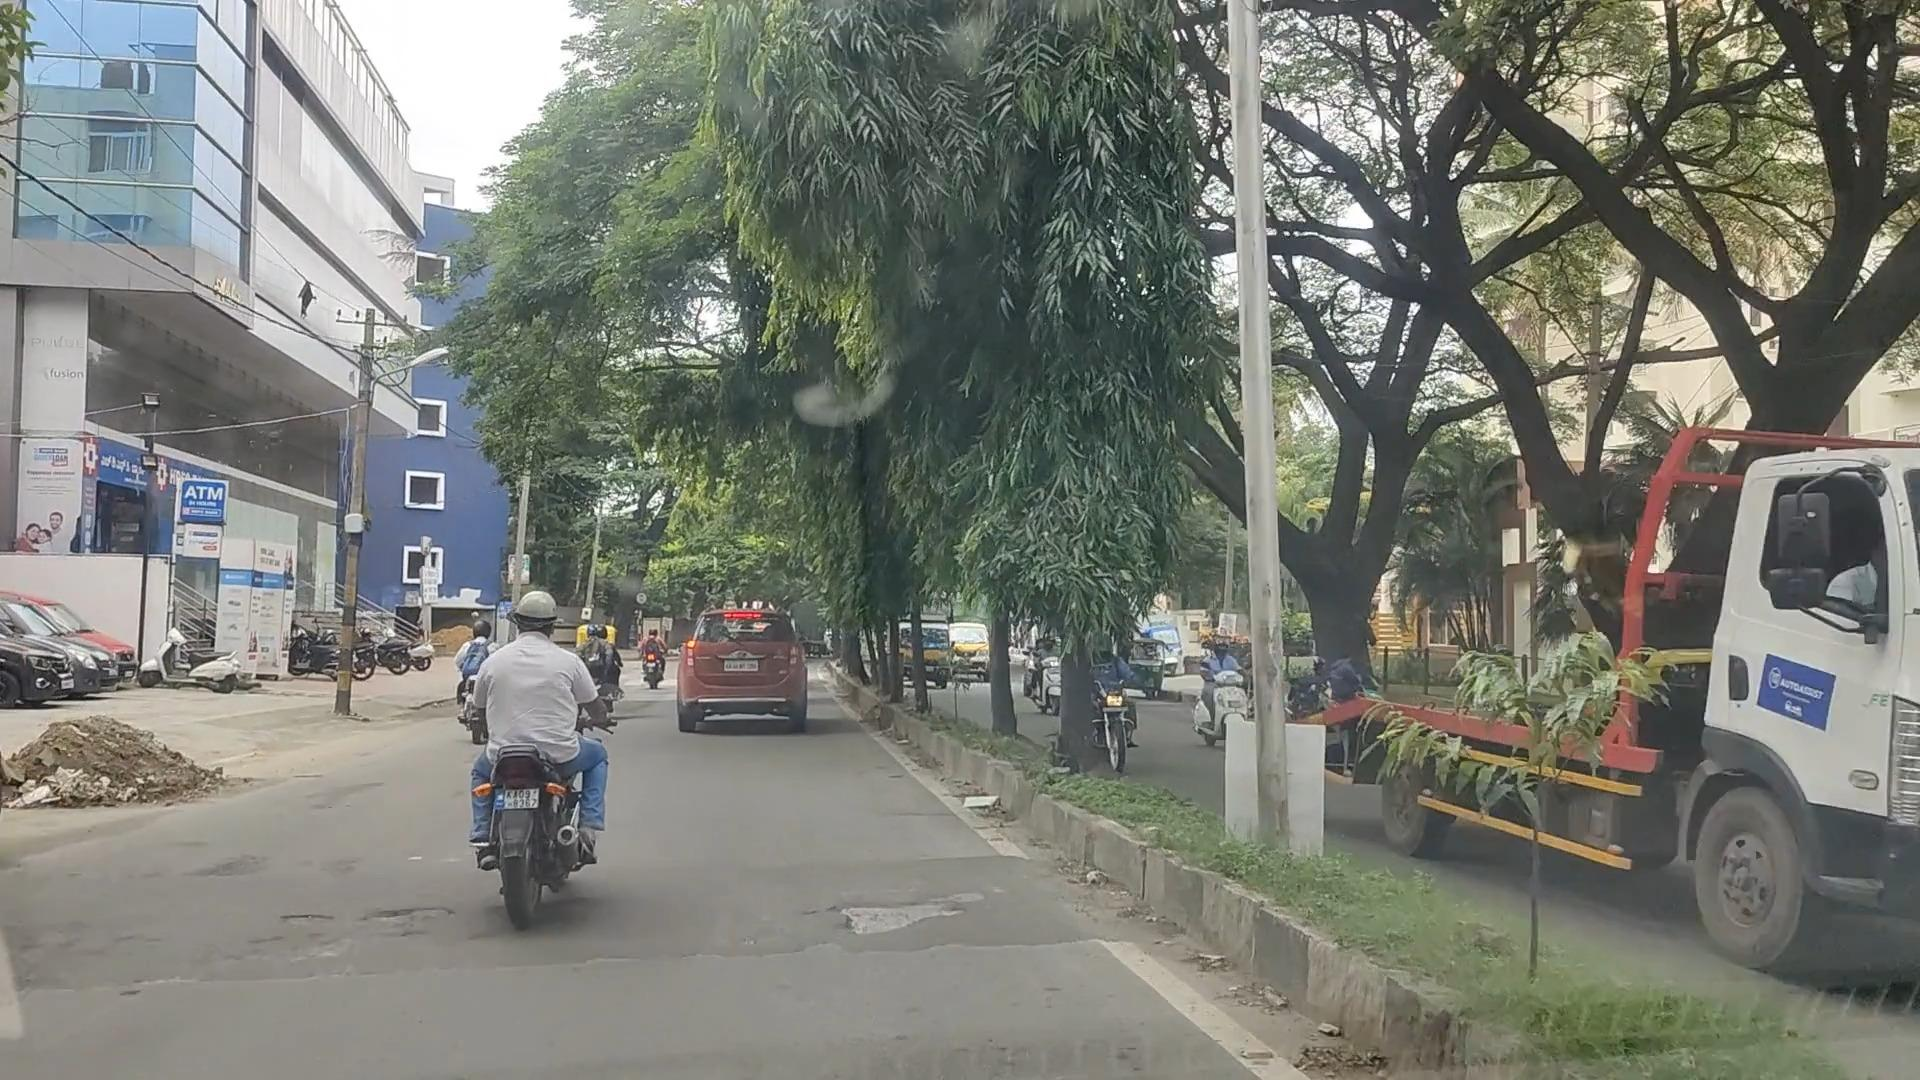LMV: (472, 597, 603, 924), (683, 603, 812, 731)
RoadDamages: (262, 868, 447, 982), (810, 873, 1002, 955), (42, 938, 210, 1018), (203, 840, 265, 893)
